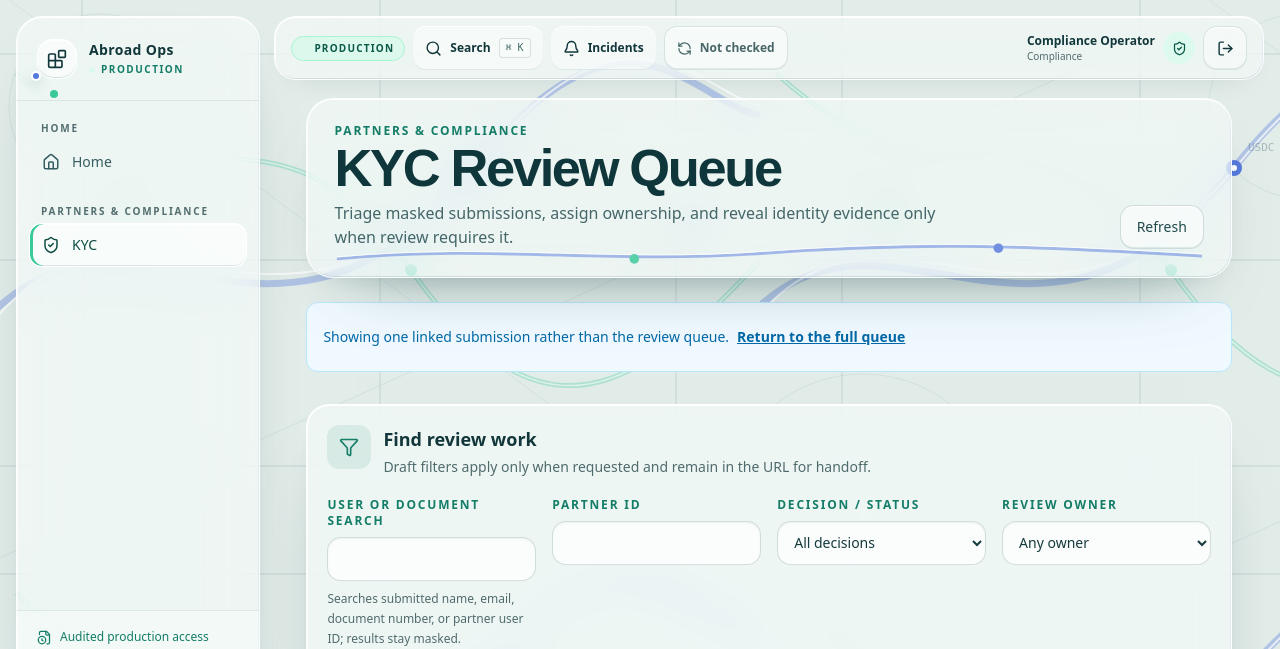
Test: KYC review queue › opens a single linked submission and offers the way back to the queue
Expected: the text "Showing one linked submission" is shown, [323, 327, 729, 346]
Step 1. Click the button "Return to the full queue" → (821, 337), box [737, 315, 905, 359]
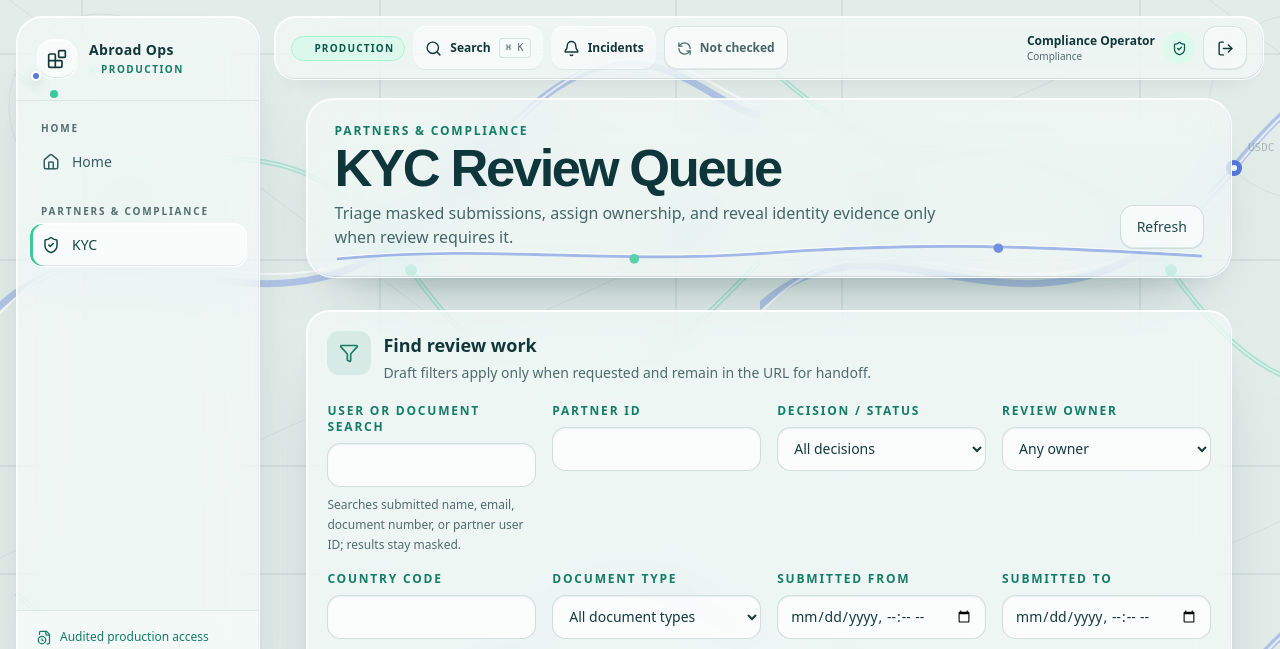
Result: the text "Showing one linked submission" is gone
